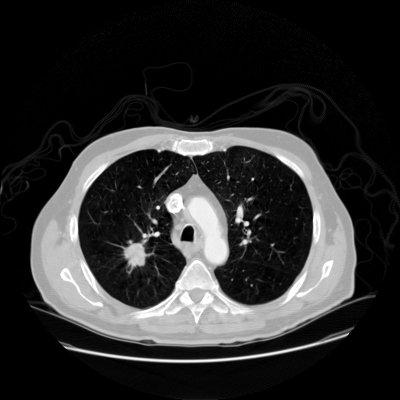nodule: (123, 242, 147, 266)
